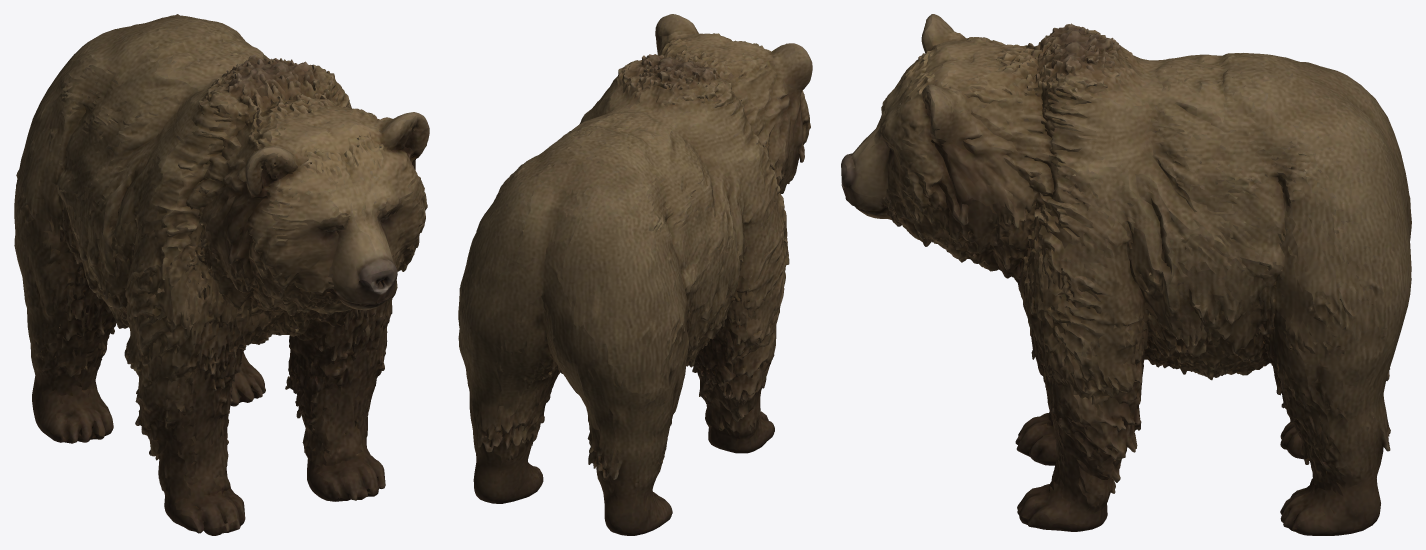
Rendered from brown-bear-v21.glb.
3 renders of one model, left to right at view 1: azimuth 30°, elevation 25°; view 2: azimuth 150°, elevation 25°; view 3: azimuth 270°, elevation 25°, orthographic. The views are drawn at different scales.
Visible parts, largest first — view 1: geometry_0; view 2: geometry_0; view 3: geometry_0.
Boxes of the visible parts, box(x1,y1,x2,y2) form: geometry_0: box(14, 14, 429, 535); geometry_0: box(458, 14, 812, 535); geometry_0: box(841, 14, 1411, 535).
Bounding box in the file's own units: 2 × 3.31 × 3.8.
1 material, 1 textured.
